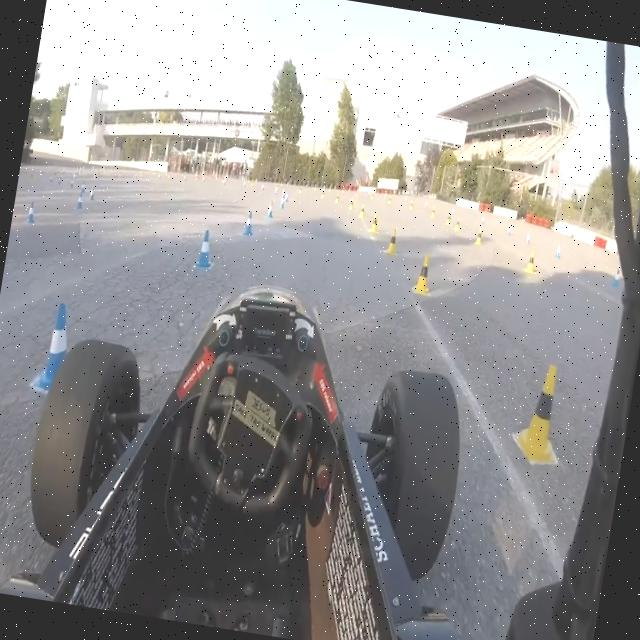blue_cone: (31, 290, 88, 400), (192, 218, 224, 276), (235, 194, 262, 250), (260, 190, 282, 224)
yellow_cone: (512, 346, 576, 470), (406, 246, 440, 304), (381, 222, 402, 260), (368, 215, 384, 234)
